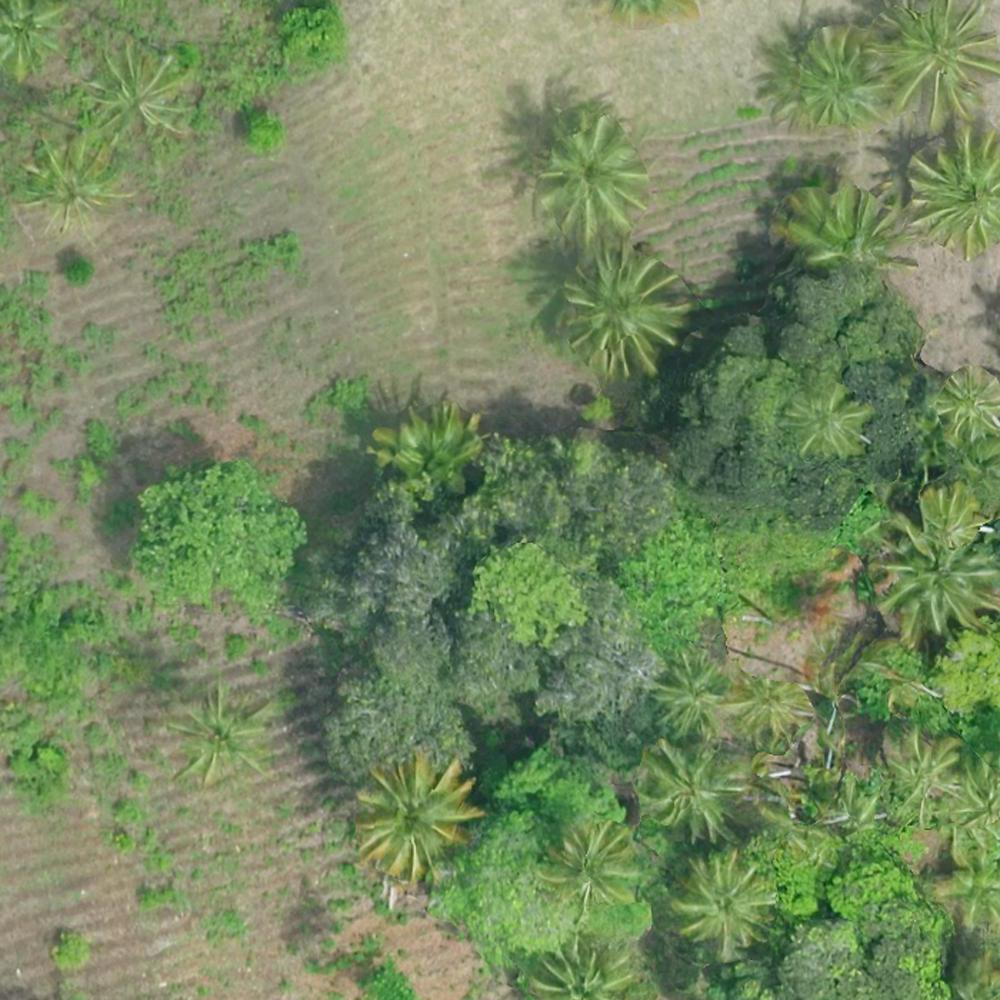Palm: (563, 235, 686, 373), (876, 1, 1000, 118), (879, 522, 998, 636), (901, 121, 999, 258), (526, 116, 642, 229), (363, 752, 468, 868), (781, 179, 894, 272), (88, 46, 192, 146), (25, 139, 132, 236), (542, 816, 643, 914), (640, 739, 733, 840), (675, 857, 780, 945), (168, 689, 267, 782), (783, 26, 876, 124), (784, 379, 869, 459), (880, 728, 961, 808), (650, 651, 726, 735), (729, 673, 811, 739), (932, 366, 1000, 437)
